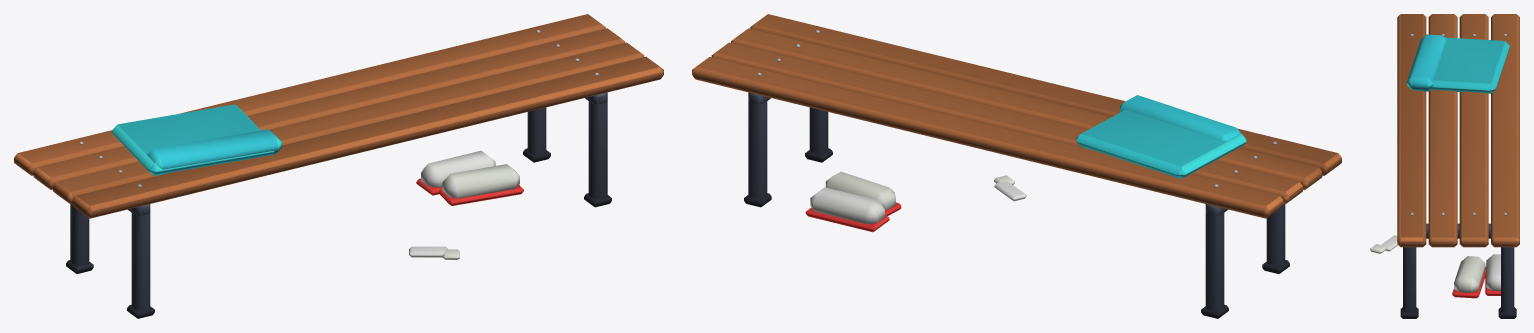
The model's file is SM_Wardrobe_Bench.fbx.
The picture shows the model from 3 angles, left to right: view 1: azimuth 30°, elevation 25°; view 2: azimuth 150°, elevation 25°; view 3: azimuth 270°, elevation 25°; orthographic projection. The views are drawn at different scales.
Parts seen in each view (by area): view 1: SM_Wardrobe_Bench; view 2: SM_Wardrobe_Bench; view 3: SM_Wardrobe_Bench.
Boxes of the visible parts, x1,y1,x2,y2 form: SM_Wardrobe_Bench: [14, 14, 663, 318]; SM_Wardrobe_Bench: [692, 14, 1341, 318]; SM_Wardrobe_Bench: [1370, 14, 1519, 318].
Bounding box in the file's own units: 240 × 56.67 × 67.31.
